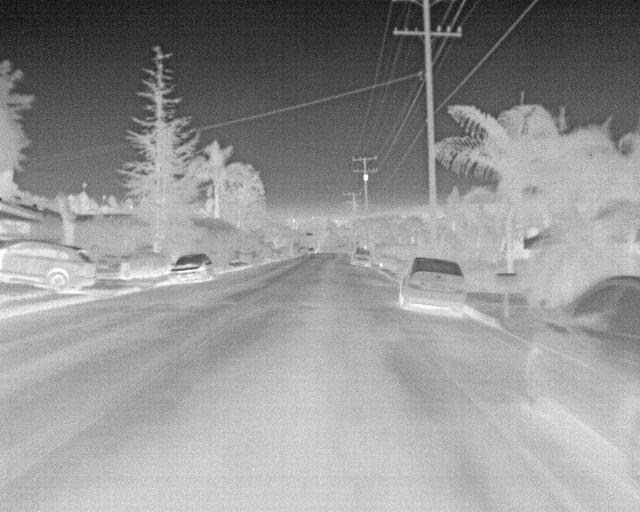car: (522, 276, 639, 478), (0, 237, 100, 292), (395, 255, 472, 313), (165, 253, 214, 283), (348, 244, 375, 272)
